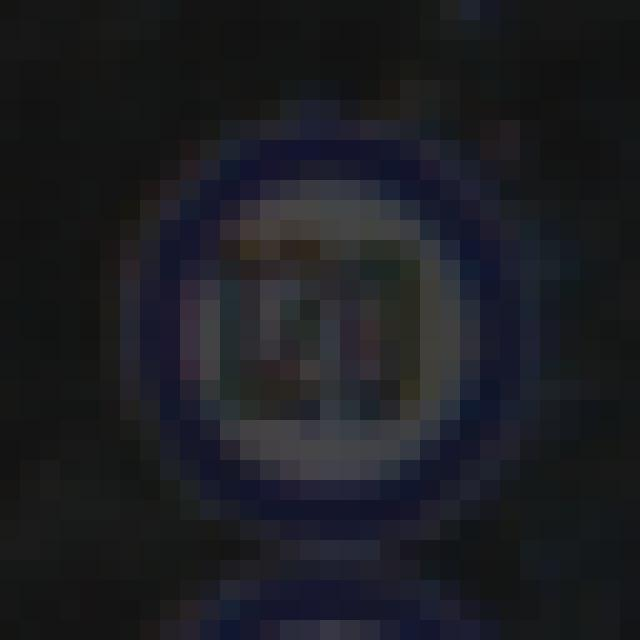SPEED LIMIT 120: (112, 140, 538, 542)
